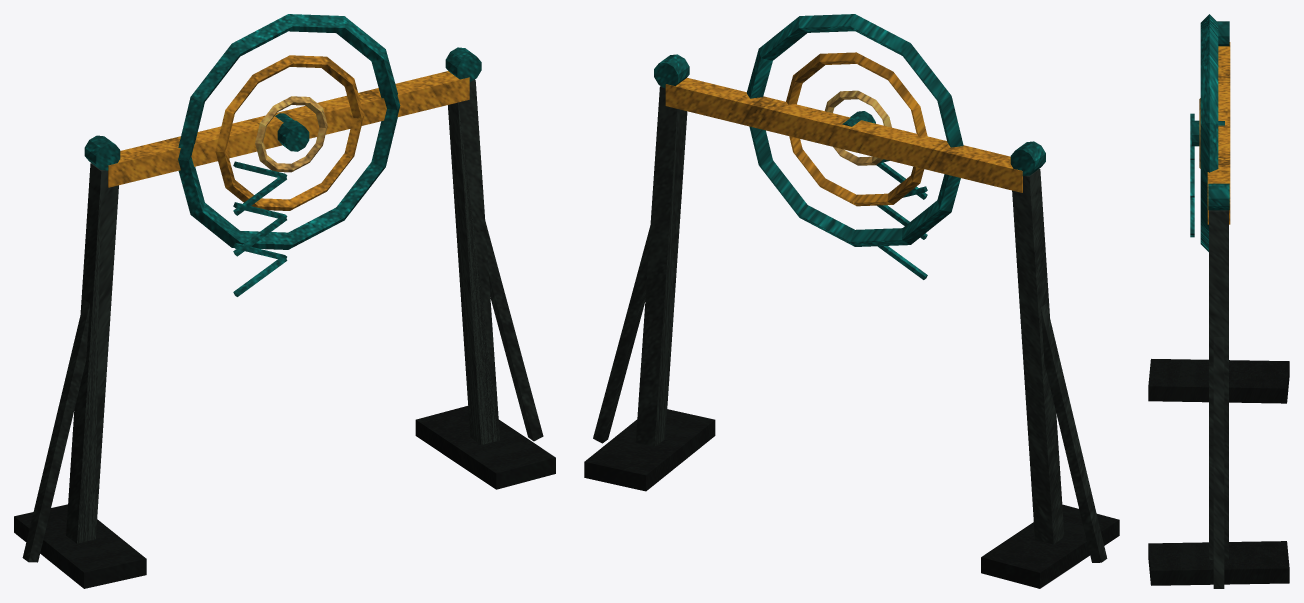
Rendered from south-broadcast-gate.glb.
The picture shows the model from 3 angles, left to right: view 1: azimuth 30°, elevation 25°; view 2: azimuth 150°, elevation 25°; view 3: azimuth 270°, elevation 25°; orthographic projection. The views are drawn at different scales.
Parts seen in each view (by area): view 1: south-broadcast-gate; view 2: south-broadcast-gate; view 3: south-broadcast-gate.
Boxes of the visible parts, x1,y1,x2,y2 form: south-broadcast-gate: [14, 14, 555, 588]; south-broadcast-gate: [584, 14, 1119, 588]; south-broadcast-gate: [1148, 14, 1289, 588].
Bounding box in the file's own units: 9.27 × 8.5 × 2.39.
Materials: 1 (1 with a texture image).
